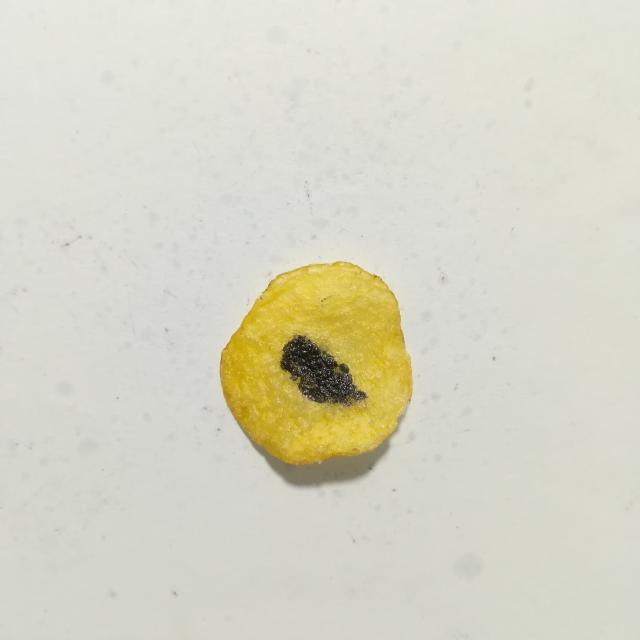chip: (220, 262, 412, 464)
damaged: (280, 335, 366, 405)
